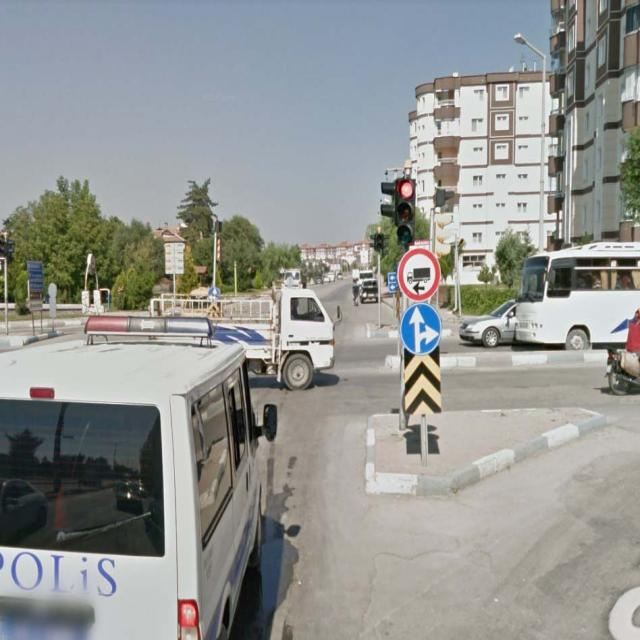ilerisag: (403, 305, 440, 353)
kirmizi: (398, 178, 412, 243)
